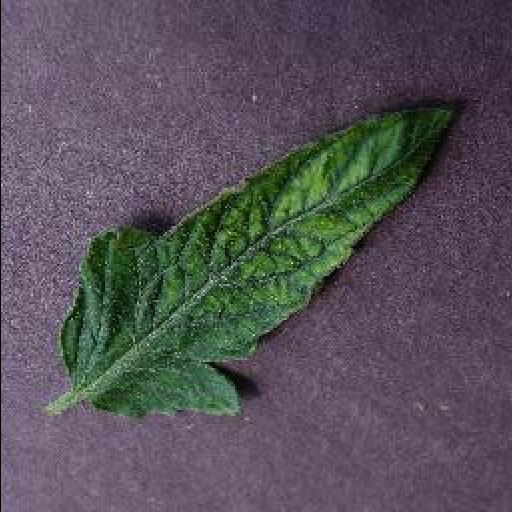Mosaic Virus: (60, 100, 464, 420)
